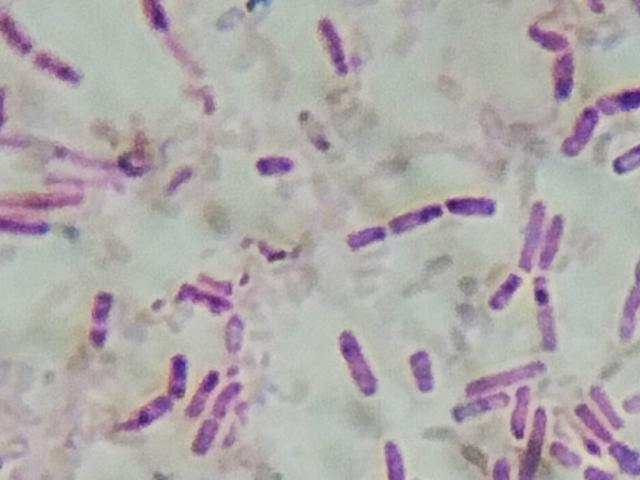E. coli: (142, 6, 202, 76), (329, 326, 381, 398), (48, 142, 151, 175), (379, 189, 445, 233), (553, 100, 597, 166), (609, 255, 640, 342), (531, 279, 565, 354), (468, 359, 549, 390), (588, 79, 640, 125), (31, 50, 89, 89), (443, 187, 497, 225), (88, 282, 116, 352), (1, 187, 82, 211), (0, 210, 62, 241), (175, 277, 227, 313), (42, 169, 124, 191), (483, 265, 520, 312), (298, 102, 333, 151), (515, 199, 542, 262), (321, 17, 350, 73), (408, 342, 437, 397), (0, 10, 35, 55), (376, 434, 410, 480), (529, 407, 552, 473), (128, 393, 170, 429), (601, 436, 639, 475), (345, 219, 387, 254), (551, 50, 577, 106), (165, 352, 195, 400), (252, 149, 295, 182), (589, 382, 620, 427), (225, 310, 254, 357), (191, 363, 218, 413), (542, 213, 568, 262), (446, 395, 506, 416), (568, 405, 605, 439), (509, 382, 530, 435), (218, 377, 246, 413), (615, 136, 640, 176), (194, 416, 219, 455), (532, 22, 568, 47), (619, 387, 640, 426), (556, 439, 576, 470), (491, 450, 510, 480), (584, 461, 608, 480)
